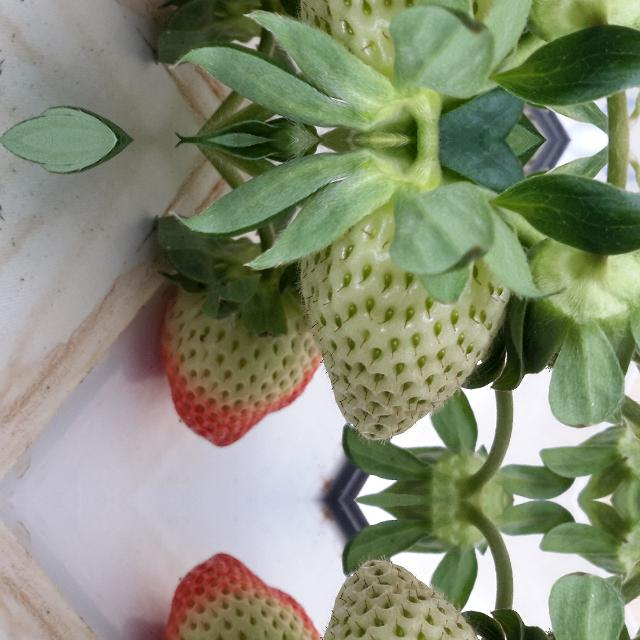Health_25: (298, 192, 510, 440), (298, 0, 509, 88), (298, 560, 509, 640)
Health_75: (161, 265, 321, 449), (161, 551, 321, 640)
